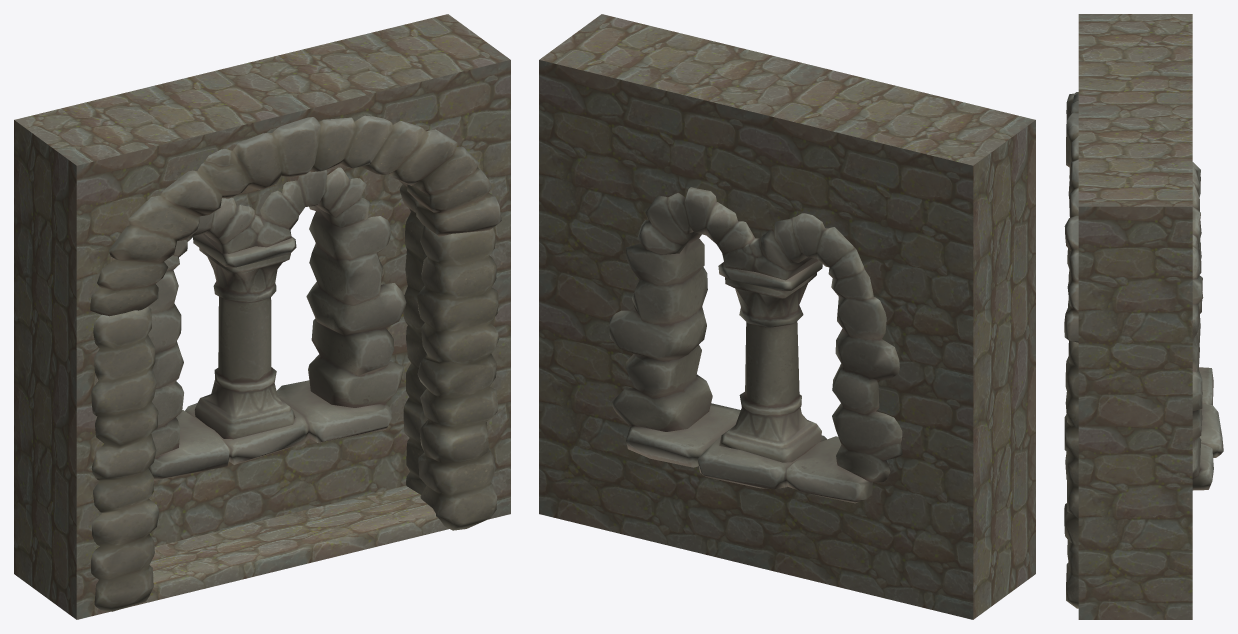
The model's file is MSH_fwOF_Ruins_Wall_Window_02.fbx.
3 renders of one model, left to right at view 1: azimuth 30°, elevation 25°; view 2: azimuth 150°, elevation 25°; view 3: azimuth 270°, elevation 25°, orthographic. The views are drawn at different scales.
Visible parts, largest first — view 1: MSH_fwOF_Ruins_Wall_Window_02, MSH_fwOF_Ruins_Wall_Window_02_LOD0; view 2: MSH_fwOF_Ruins_Wall_Window_02, MSH_fwOF_Ruins_Wall_Window_02_LOD0; view 3: MSH_fwOF_Ruins_Wall_Window_02, MSH_fwOF_Ruins_Wall_Window_02_LOD0.
Part boxes in pixels (bbox=[...]): MSH_fwOF_Ruins_Wall_Window_02: bbox=[14, 14, 510, 619]; MSH_fwOF_Ruins_Wall_Window_02_LOD0: bbox=[90, 115, 501, 611]; MSH_fwOF_Ruins_Wall_Window_02: bbox=[539, 14, 1035, 619]; MSH_fwOF_Ruins_Wall_Window_02_LOD0: bbox=[609, 187, 902, 503]; MSH_fwOF_Ruins_Wall_Window_02: bbox=[1078, 14, 1192, 619]; MSH_fwOF_Ruins_Wall_Window_02_LOD0: bbox=[1064, 92, 1223, 608].
Size of what is drawn, in the model's own units: 4 by 4.09 by 1.4.
